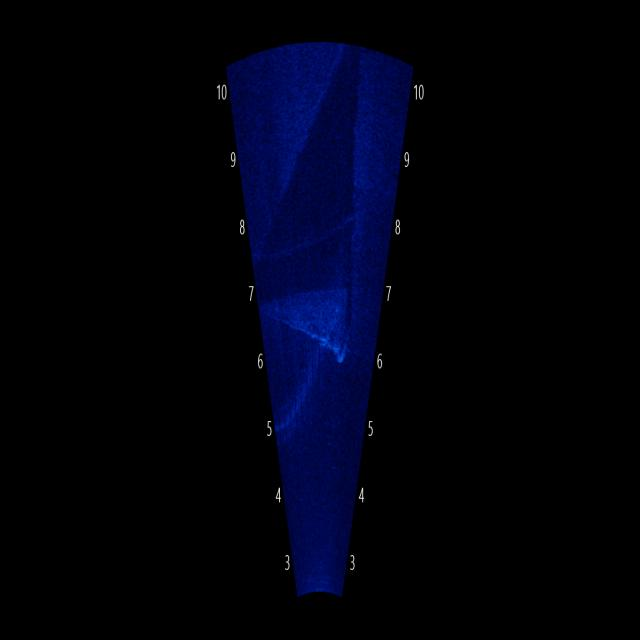triangle: (260, 284, 360, 364)
